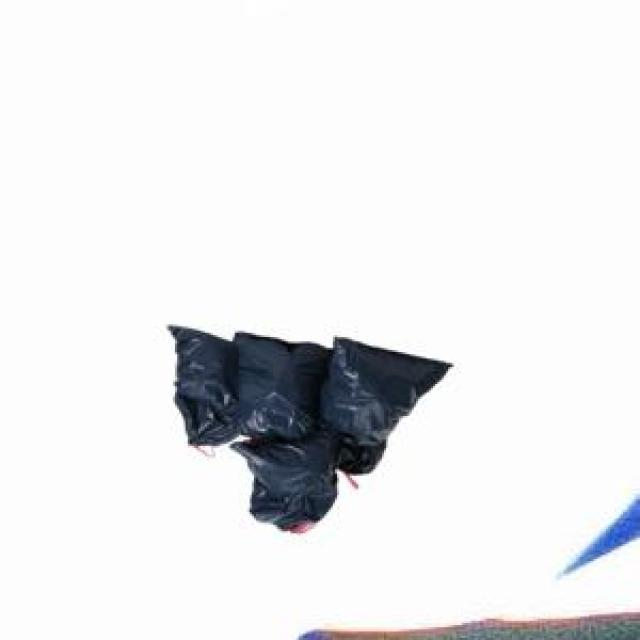garbage_bag: (162, 318, 454, 534)
